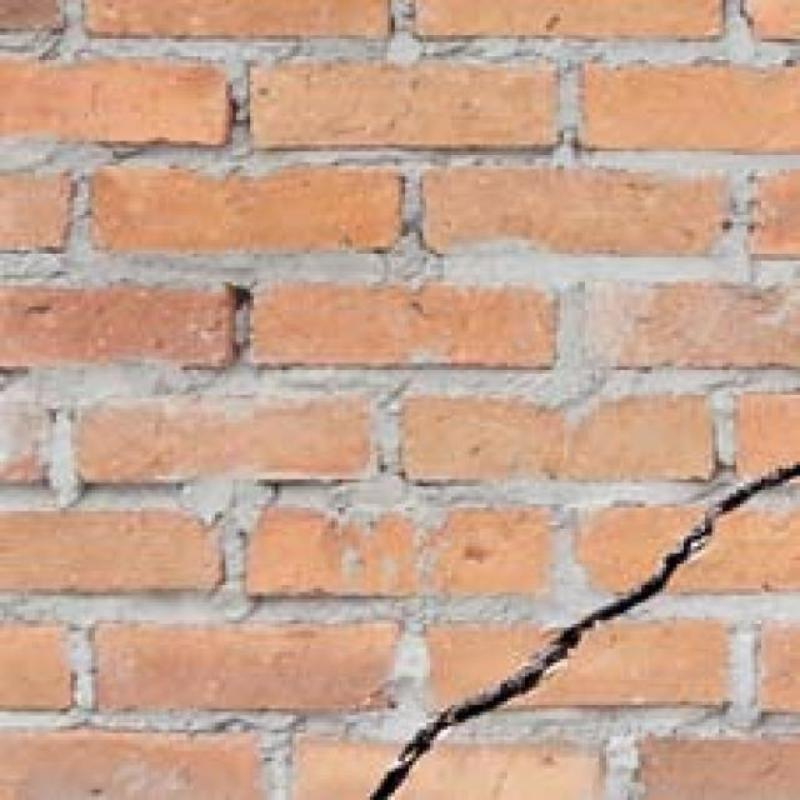pothole: (370, 463, 800, 800)
